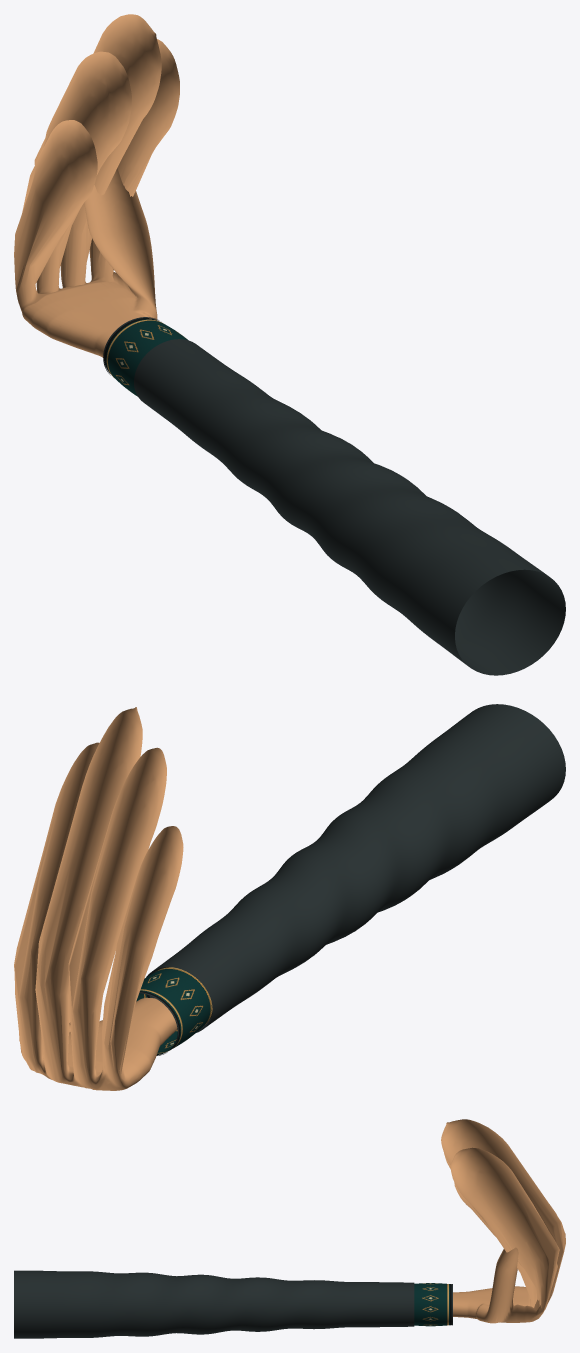
File: mansaf-player-arm-v2.glb
3 views of the same model, one above another, from view 1: azimuth 30°, elevation 25°; view 2: azimuth 150°, elevation 25°; view 3: azimuth 270°, elevation 25° (orthographic). The views are drawn at different scales.
Visible parts, largest first — view 1: Sleeve, HandSkin, EmbroideredCuff; view 2: HandSkin, Sleeve, EmbroideredCuff; view 3: Sleeve, HandSkin, EmbroideredCuff.
Boxes of the visible parts, x1,y1,x2,y2 form: Sleeve: (134,339,565,675); HandSkin: (14,14,179,357); EmbroideredCuff: (104,318,188,396); HandSkin: (14,707,183,1090); Sleeve: (146,704,565,1032); EmbroideredCuff: (136,967,212,1055); Sleeve: (14,1270,414,1338); HandSkin: (441,1119,565,1323); EmbroideredCuff: (414,1283,451,1326).
Size of the model in its own units: 0.3461 by 1.1 by 2.52.
4 materials, 1 textured.
